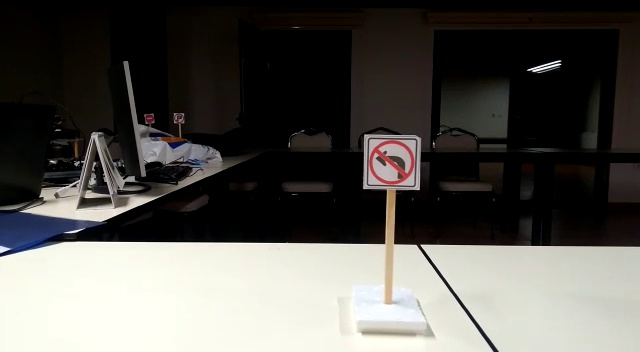sola_donulmez: (368, 138, 416, 186)
